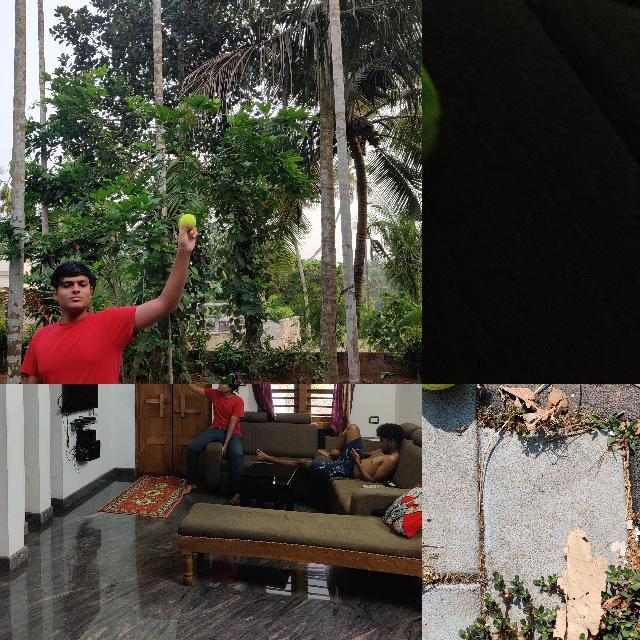tennis-ball: (180, 214, 196, 231)
